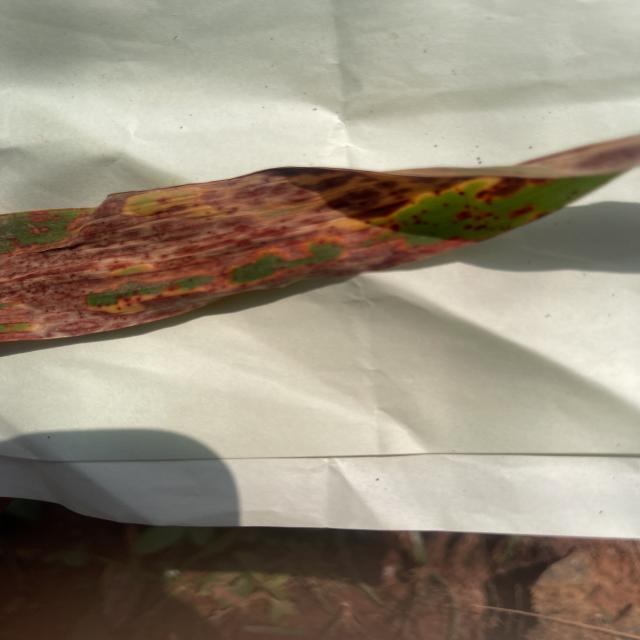millet_rust: (0, 135, 640, 344)
